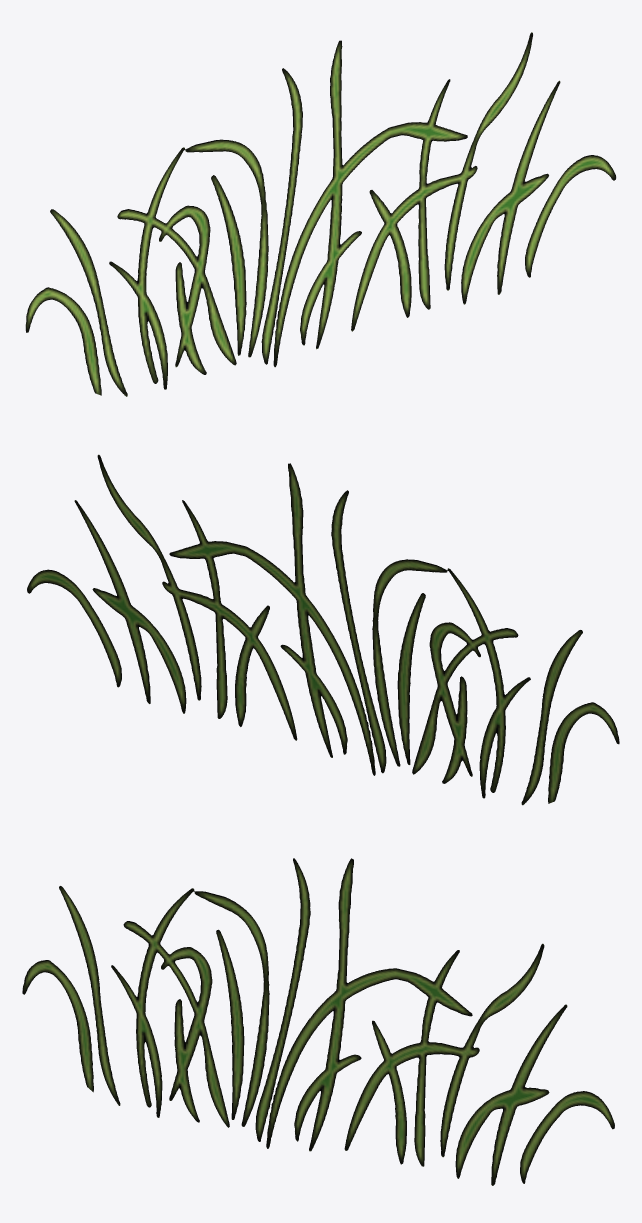
Rendered from hierba4.fbx.
3 renders of one model, top to bottom at view 1: azimuth 30°, elevation 25°; view 2: azimuth 150°, elevation 25°; view 3: azimuth 330°, elevation 25°, orthographic.
Visible parts, largest first — view 1: hierba6; view 2: hierba6; view 3: hierba6.
Part boxes in pixels (bbox=[...]): hierba6: bbox=[25, 32, 616, 396]; hierba6: bbox=[27, 454, 619, 805]; hierba6: bbox=[22, 858, 614, 1185].
Size of the model in its own units: 46.56 by 22.82 by 1.31.
